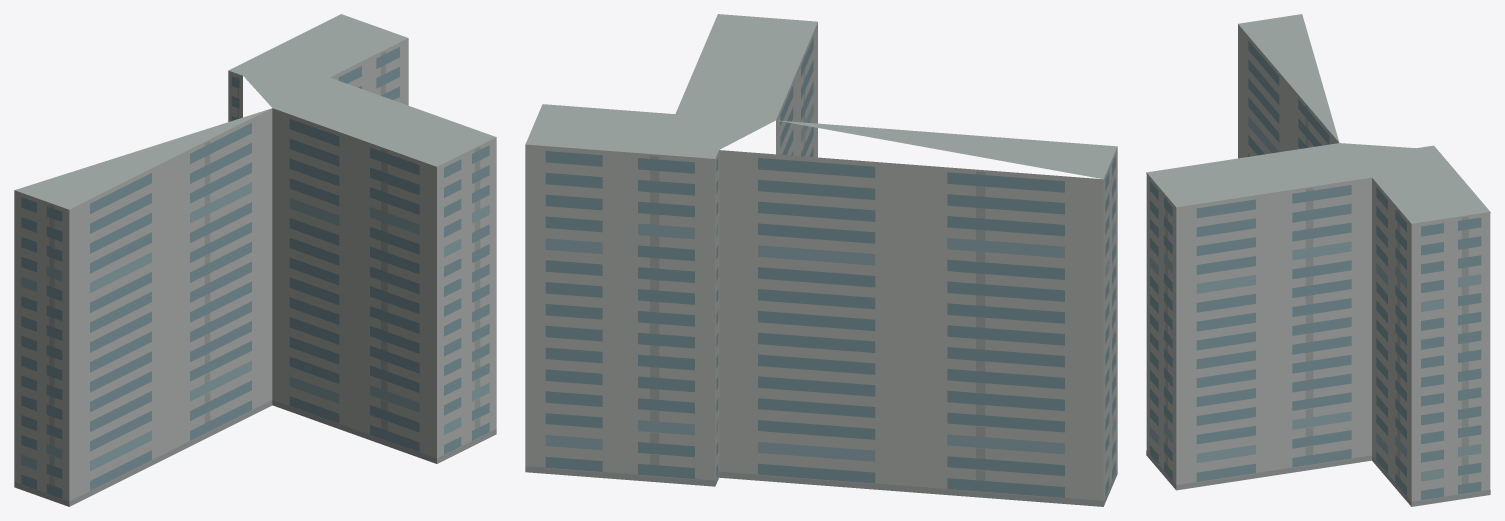
Rendered from residential-4b3939f2-a5c7-4fa9-b4a2-04b035af6c9a.glb.
3 renders of one model, left to right at view 1: azimuth 30°, elevation 25°; view 2: azimuth 150°, elevation 25°; view 3: azimuth 270°, elevation 25°, orthographic. The views are drawn at different scales.
Parts seen in each view (by area): view 1: residential-4b3939f2-a5c7-4fa9-b4a2-04b035af6c9a.tmp; view 2: residential-4b3939f2-a5c7-4fa9-b4a2-04b035af6c9a.tmp; view 3: residential-4b3939f2-a5c7-4fa9-b4a2-04b035af6c9a.tmp.
Part boxes in pixels (left/top/right/bottom): residential-4b3939f2-a5c7-4fa9-b4a2-04b035af6c9a.tmp: left=14, top=14, right=496, bottom=506; residential-4b3939f2-a5c7-4fa9-b4a2-04b035af6c9a.tmp: left=525, top=14, right=1117, bottom=506; residential-4b3939f2-a5c7-4fa9-b4a2-04b035af6c9a.tmp: left=1146, top=14, right=1490, bottom=506.
Size of the model in its own units: 72.75 by 45.75 by 50.39.
